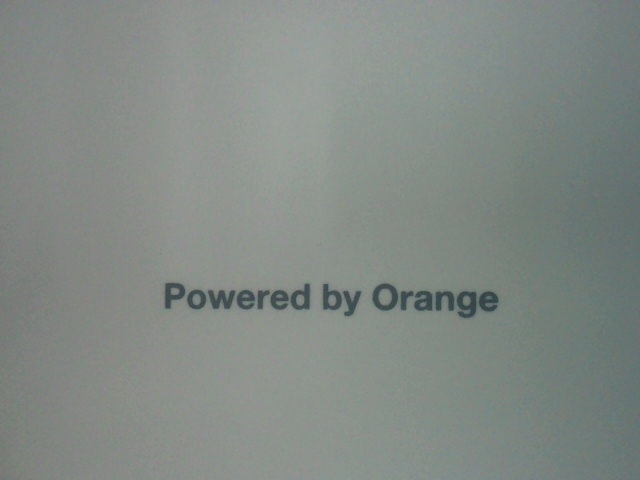AS_PowerByOrange: (162, 276, 501, 322)
